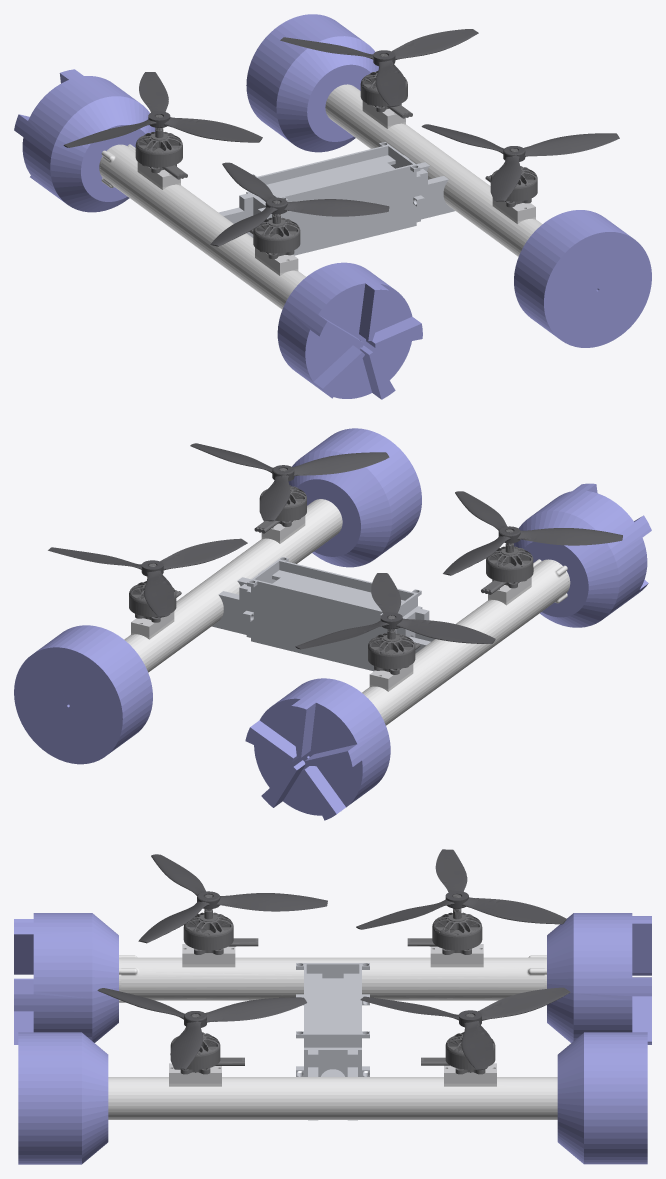
Rendered from triphibian-rover.glb.
3 renders of one model, top to bottom at view 1: azimuth 30°, elevation 25°; view 2: azimuth 150°, elevation 25°; view 3: azimuth 270°, elevation 25°, orthographic. The views are drawn at different scales.
Visible parts, largest first — view 1: Optimal_PaddleWheel_10.1.26-1, Optimal_RearWheel_10.1.26-2, Optimal_PaddleWheel_10.1.26-2, Optimal_RearWheel_10.1.26-1, Housing11-2-1 HousingV2-1, FrameTube_Ver3-1, RearFrameTube_Ver1-1, 3 blade PROP-1, 3 blade PROP-5, 3 blade PROP-6, 3 blade PROP-7, X-ING_EPRO_2207_Basic-6 (+6 smaller); view 2: Optimal_PaddleWheel_10.1.26-2, Optimal_RearWheel_10.1.26-1, Optimal_PaddleWheel_10.1.26-1, Optimal_RearWheel_10.1.26-2, Housing11-2-1 HousingV2-1, FrameTube_Ver3-1, RearFrameTube_Ver1-1, 3 blade PROP-1, 3 blade PROP-5, 3 blade PROP-6, 3 blade PROP-7, X-ING_EPRO_2207_Basic-5 (+7 smaller); view 3: RearFrameTube_Ver1-1, FrameTube_Ver3-1, Optimal_PaddleWheel_10.1.26-1, Optimal_PaddleWheel_10.1.26-2, Optimal_RearWheel_10.1.26-2, Optimal_RearWheel_10.1.26-1, Housing11-2-1 HousingV2-1, 3 blade PROP-6, 3 blade PROP-1, 3 blade PROP-7, 3 blade PROP-5, X-ING_EPRO_2207_Basic-6 (+8 smaller).
Boxes of the visible parts, left/top/right/bottom form: Optimal_PaddleWheel_10.1.26-1: left=277, top=262, right=422, bottom=399; Optimal_RearWheel_10.1.26-2: left=514, top=210, right=651, bottom=347; Optimal_PaddleWheel_10.1.26-2: left=14, top=69, right=155, bottom=212; Optimal_RearWheel_10.1.26-1: left=246, top=14, right=378, bottom=152; Housing11-2-1 HousingV2-1: left=252, top=142, right=420, bottom=255; FrameTube_Ver3-1: left=100, top=145, right=305, bottom=309; RearFrameTube_Ver1-1: left=325, top=84, right=542, bottom=256; 3 blade PROP-1: left=421, top=124, right=619, bottom=201; 3 blade PROP-5: left=210, top=162, right=389, bottom=246; 3 blade PROP-6: left=63, top=72, right=262, bottom=147; 3 blade PROP-7: left=280, top=29, right=478, bottom=106; X-ING_EPRO_2207_Basic-6: left=135, top=114, right=187, bottom=179; Optimal_PaddleWheel_10.1.26-2: left=245, top=678, right=390, bottom=820; Optimal_RearWheel_10.1.26-1: left=14, top=625, right=152, bottom=764; Optimal_PaddleWheel_10.1.26-1: left=513, top=483, right=651, bottom=627; Optimal_RearWheel_10.1.26-2: left=288, top=428, right=421, bottom=567; Housing11-2-1 HousingV2-1: left=247, top=557, right=421, bottom=671; FrameTube_Ver3-1: left=362, top=560, right=568, bottom=725; RearFrameTube_Ver1-1: left=124, top=499, right=342, bottom=672; 3 blade PROP-1: left=190, top=443, right=389, bottom=521; 3 blade PROP-5: left=443, top=491, right=622, bottom=575; 3 blade PROP-6: left=295, top=573, right=495, bottom=649; 3 blade PROP-7: left=48, top=538, right=247, bottom=617; X-ING_EPRO_2207_Basic-5: left=481, top=529, right=533, bottom=594; RearFrameTube_Ver1-1: left=108, top=1077, right=557, bottom=1119; FrameTube_Ver3-1: left=121, top=955, right=544, bottom=1002; Optimal_PaddleWheel_10.1.26-1: left=14, top=913, right=118, bottom=1044; Optimal_PaddleWheel_10.1.26-2: left=547, top=913, right=651, bottom=1044; Optimal_RearWheel_10.1.26-2: left=18, top=1032, right=108, bottom=1164; Optimal_RearWheel_10.1.26-1: left=557, top=1032, right=647, bottom=1164; Housing11-2-1 HousingV2-1: left=296, top=963, right=369, bottom=1076; 3 blade PROP-6: left=356, top=849, right=566, bottom=929; 3 blade PROP-1: left=97, top=988, right=306, bottom=1069; 3 blade PROP-7: left=360, top=987, right=570, bottom=1070; 3 blade PROP-5: left=138, top=854, right=327, bottom=943; X-ING_EPRO_2207_Basic-6: left=407, top=894, right=482, bottom=954.
Size of the model in its own units: 0.5002 by 0.1517 by 0.613.
